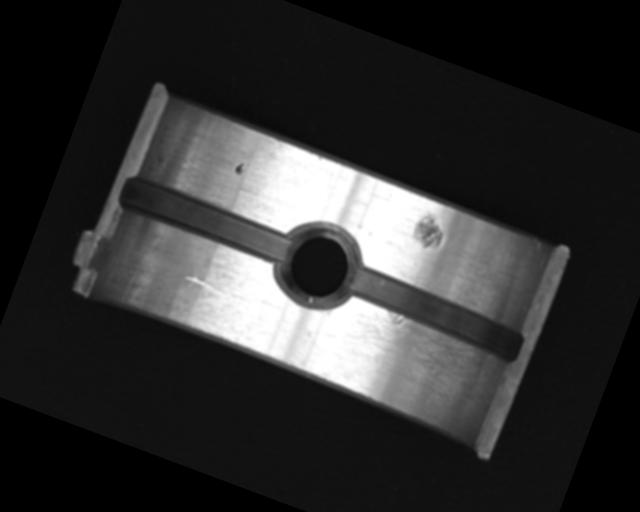bruise: (410, 209, 451, 256), (232, 158, 247, 177)
gap: (338, 261, 529, 366), (116, 173, 297, 270)
hole: (267, 211, 370, 320)
nick: (180, 272, 243, 307)
scratch: (317, 291, 498, 420)
